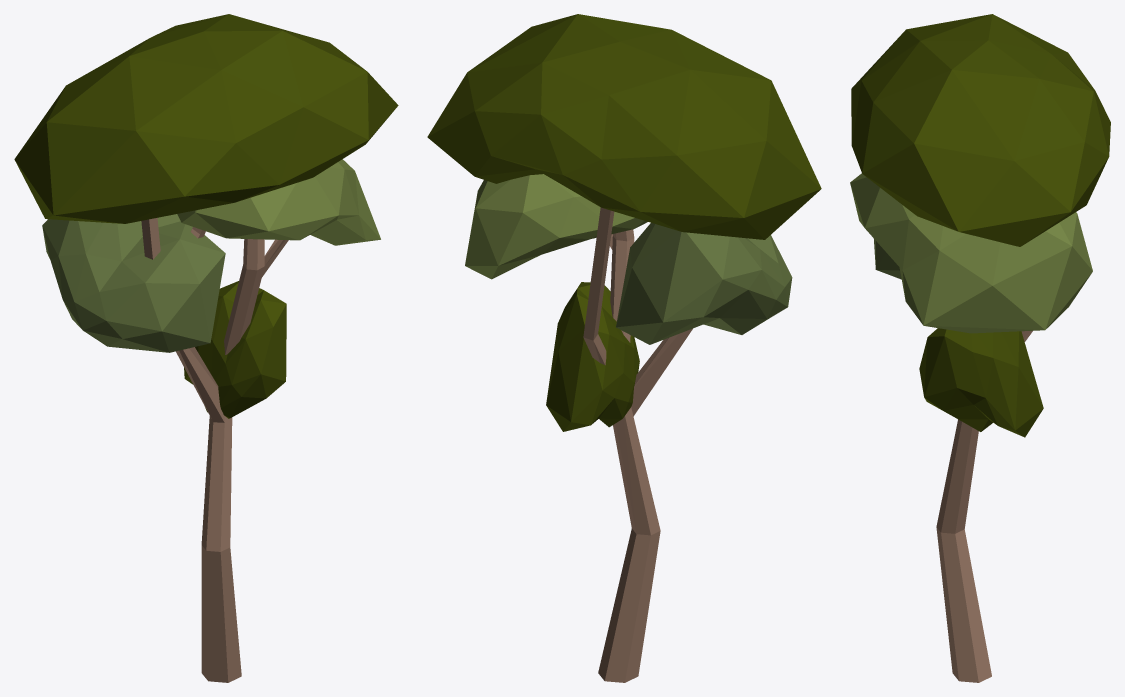
File: tree_03_04.dae
The picture shows the model from 3 angles, left to right: view 1: azimuth 30°, elevation 25°; view 2: azimuth 150°, elevation 25°; view 3: azimuth 270°, elevation 25°; orthographic projection.
Visible parts, largest first — view 1: tree_0304; view 2: tree_0304; view 3: tree_0304.
Part boxes in pixels (x1,y1,x2,y2): tree_0304: (14,14,398,682); tree_0304: (427,14,821,682); tree_0304: (850,14,1110,682).
Bounding box in the file's own units: 3.47 × 2.24 × 5.96.
